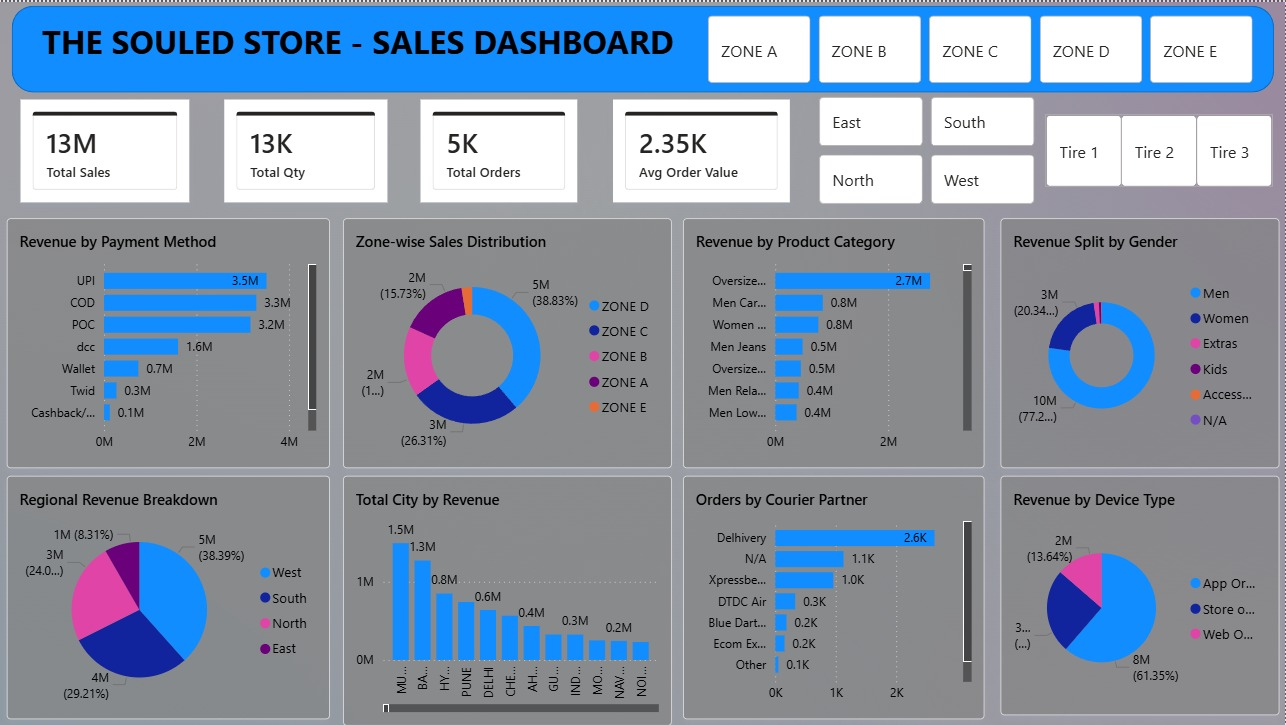

Layout of this report page (visuals, bound fields, positions):
{"tool":"powerbi","page":{"name":"Page 1","canvas":[1280,720],"ordinal":0},"visuals":[{"type":"shape","box":[13.8,3.8,1256.2,86.2],"z":0},{"type":"advancedSlicerVisual","fields":{"Values":["main.Zone"]},"box":[701.2,8.8,553.8,77.5],"z":2000},{"type":"cardVisual","fields":{"Data":["main.Total Sales"]},"box":[22.5,97.5,168.8,102.5],"z":3000},{"type":"cardVisual","fields":{"Data":["main.Total Qty"]},"box":[225,97.5,162.5,102.5],"z":4000},{"type":"cardVisual","fields":{"Data":["main.Total Orders"]},"box":[420,97.5,156.2,102.5],"z":5000},{"type":"cardVisual","fields":{"Data":["main.Avg Order Value"]},"box":[612.5,97.5,176.2,102.5],"z":6000},{"type":"clusteredBarChart","title":"Revenue by Product Category","fields":{"Category":["main.Category"],"Y":["main.Revenue by Category"]},"box":[681.2,215,300,248.8],"z":7000},{"type":"clusteredColumnChart","title":"Total City by Revenue","fields":{"Category":["main.City"],"Y":["main.Total Sales"]},"box":[343.8,471.2,327.5,248.8],"z":8000},{"type":"donutChart","title":"Revenue Split by Gender","fields":{"Category":["main.Gender"],"Y":["main.Gender Revenue"]},"box":[997.5,215,277.5,248.8],"z":9000},{"type":"clusteredBarChart","title":"Orders by Courier Partner","fields":{"Category":["main.Courier"],"Y":["main.Courier Orders"]},"box":[681.2,471.2,300,242.5],"z":10000},{"type":"donutChart","title":"Zone-wise Sales Distribution","fields":{"Category":["main.Zone"],"Y":["main.Zone Sales"]},"box":[343.8,215,327.5,248.8],"z":11000},{"type":"pieChart","title":"Regional Revenue Breakdown","fields":{"Category":["main.Region"],"Y":["main.Region Revenue"]},"box":[8.8,471.2,321.2,242.5],"z":12000},{"type":"barChart","title":"Revenue by Payment Method","fields":{"Category":["main.PaymentMethod"],"Y":["main.Payment Revenue"]},"box":[8.8,215,321.2,248.8],"z":13000},{"type":"pieChart","title":"Revenue by Device Type","fields":{"Category":["main.DeviceType"],"Y":["main.Device Revenue"]},"box":[997.5,471.2,277.5,238.8],"z":14000},{"type":"advancedSlicerVisual","fields":{"Values":["main.Region"]},"box":[812.5,90,337.5,117.5],"z":15000},{"type":"textbox","box":[0,12.5,716.2,107.5],"z":16000},{"type":"advancedSlicerVisual","fields":{"Values":["main.Tire"]},"box":[1037.5,107.5,237.5,82.5],"z":17000}]}

Visuals, with their boxes in screenshot pixels (x1, y1, x2, y2), scaled from the page's 1280x720 canvas onto the 1286x725 screenshot:
shape: l=14, t=4, r=1276, b=91
advancedSlicerVisual - main.Zone: l=704, t=9, r=1261, b=87
cardVisual - main.Total Sales: l=23, t=98, r=192, b=201
cardVisual - main.Total Qty: l=226, t=98, r=389, b=201
cardVisual - main.Total Orders: l=422, t=98, r=579, b=201
cardVisual - main.Avg Order Value: l=615, t=98, r=792, b=201
"Revenue by Product Category" clusteredBarChart: l=684, t=216, r=986, b=467
"Total City by Revenue" clusteredColumnChart: l=345, t=474, r=674, b=724
"Revenue Split by Gender" donutChart: l=1002, t=216, r=1281, b=467
"Orders by Courier Partner" clusteredBarChart: l=684, t=474, r=986, b=719
"Zone-wise Sales Distribution" donutChart: l=345, t=216, r=674, b=467
"Regional Revenue Breakdown" pieChart: l=9, t=474, r=332, b=719
"Revenue by Payment Method" barChart: l=9, t=216, r=332, b=467
"Revenue by Device Type" pieChart: l=1002, t=474, r=1281, b=715
advancedSlicerVisual - main.Region: l=816, t=91, r=1155, b=209
textbox: l=0, t=13, r=720, b=121
advancedSlicerVisual - main.Tire: l=1042, t=108, r=1281, b=191
